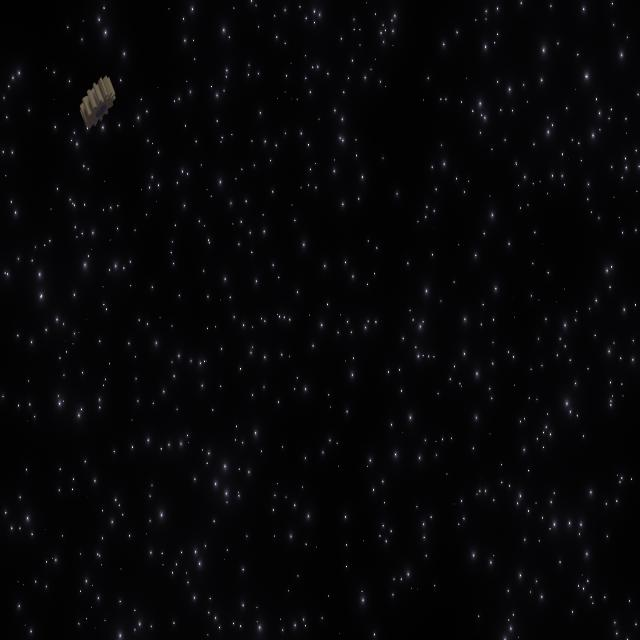large_debris: (80, 74, 117, 130)
